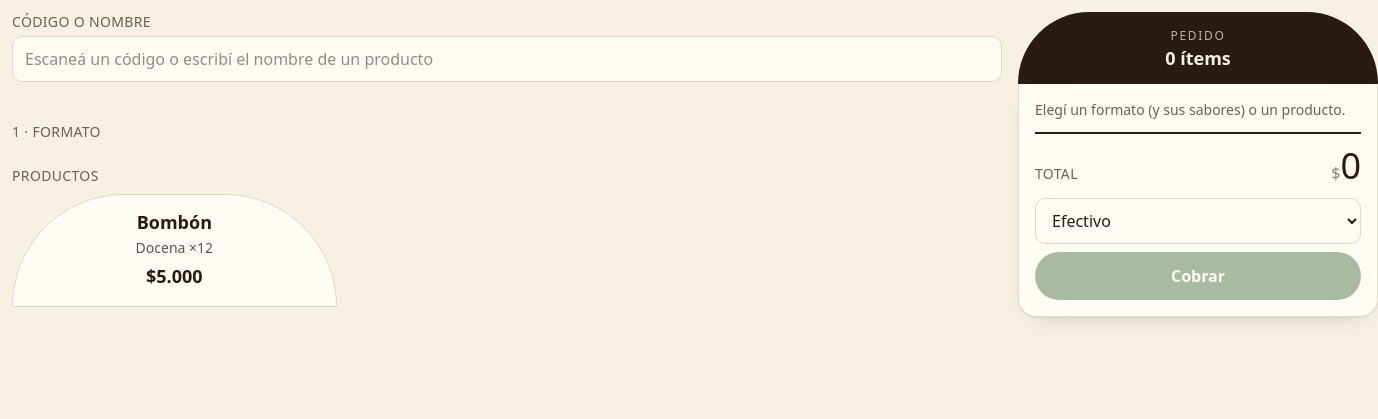
it: FormularioTicket: después de cobrar › el carrito queda vacío sin tocar nada, con un aviso de lo cobrado
This screenshot has width=1378, height=419.
Click the button "Bombón Docena ×12 $5.000".
click(174, 250)  # box [12,194,337,306]
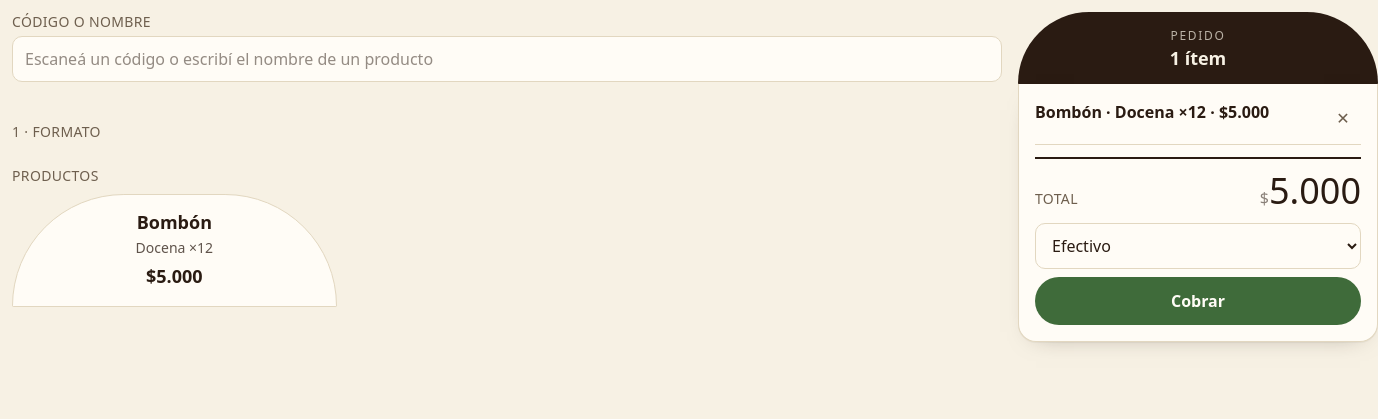
Click the button "Bombón Docena ×12 $5.000".
click(174, 250)  # box [12,194,337,306]
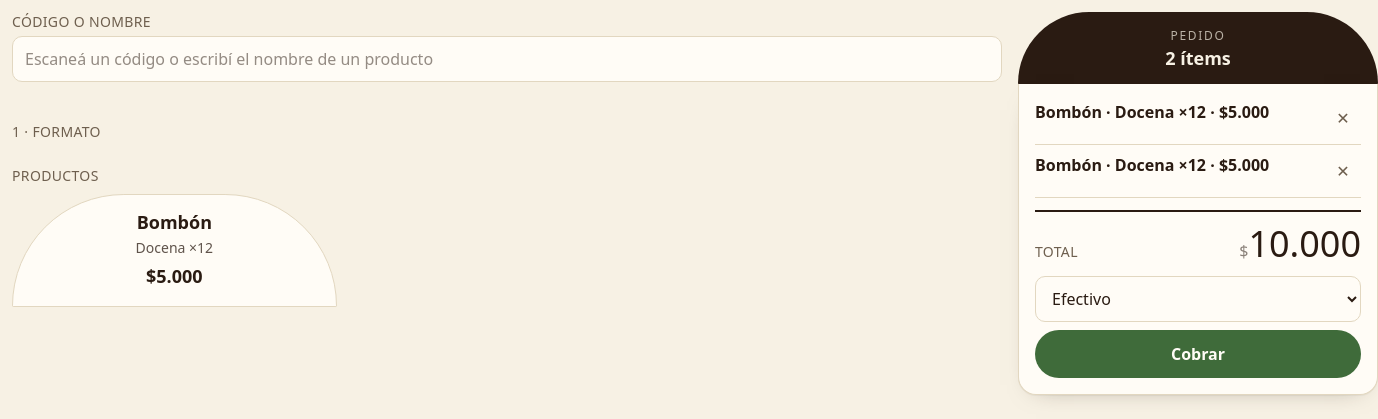
Result: the heading "2 ítems" is shown at [1165,46,1231,70]
Submit the form "Cobrar", box [1035,276,1361,378]
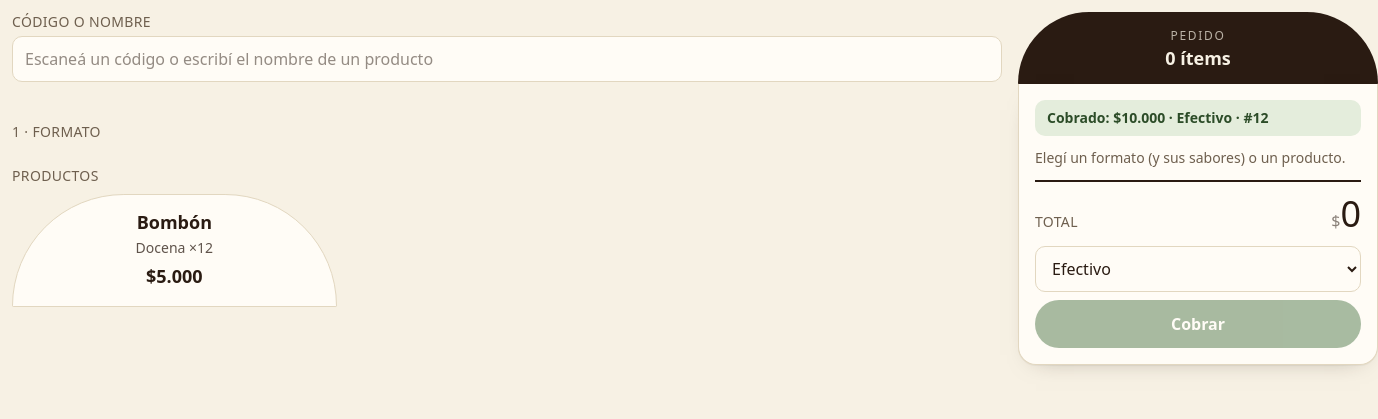
Expected: the button "Cobrar" is shown, [1035,300,1361,348]
Result: the heading "0 ítems" is shown at [1165,46,1231,70]
Result: the message reads "Cobrado: $10.000 · Efectivo · #12" at [1035,100,1361,136]
